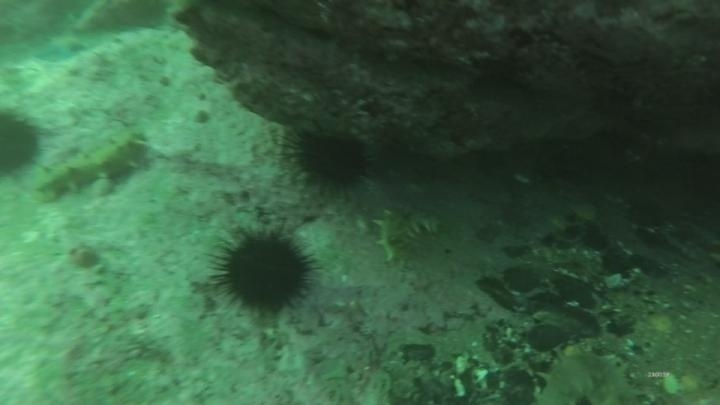echinus: (210, 226, 317, 318), (286, 123, 375, 197), (0, 106, 44, 181)
holothurian: (32, 129, 150, 204), (531, 346, 645, 405), (370, 202, 442, 268)
starfish: (32, 32, 89, 64)
